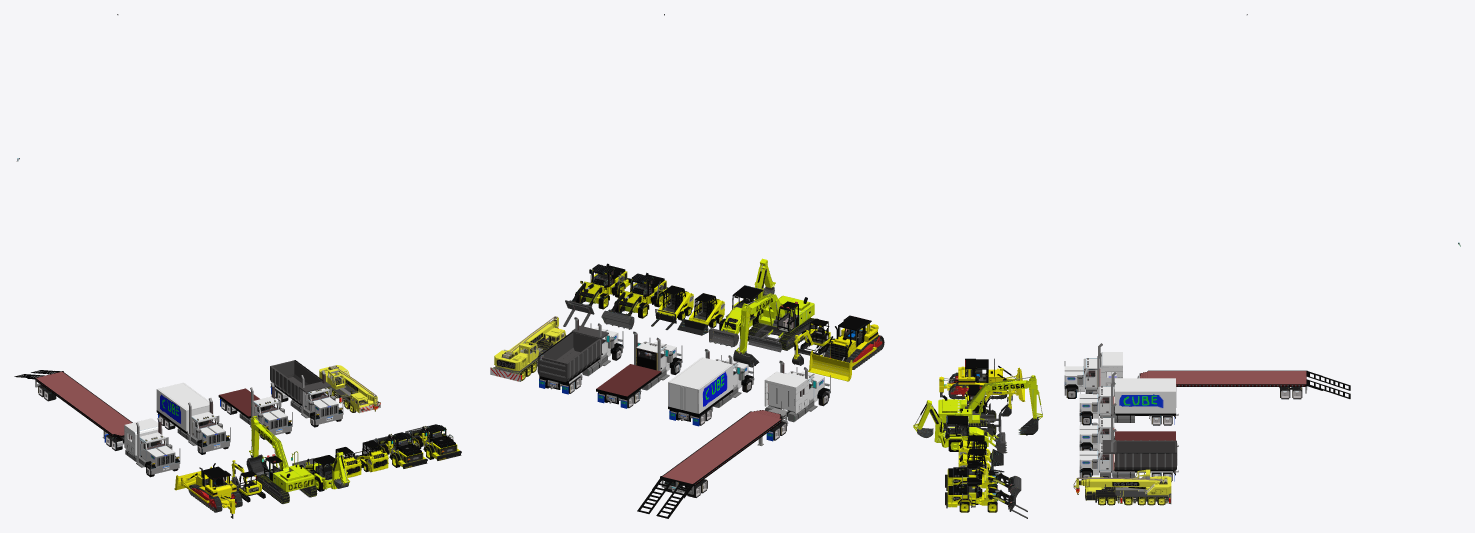
File: digger.glb
The picture shows the model from 3 angles, left to right: view 1: azimuth 30°, elevation 25°; view 2: azimuth 150°, elevation 25°; view 3: azimuth 270°, elevation 25°; orthographic projection. The views are drawn at different scales.
Visible parts, largest first — view 1: cube.007_7, cube.003_33, cube.014_2, trailor.001_3, digger d400_22, flatbed_18, digger 900 moble crane_19, cube.011_16, cube.006_13, cube.002_34, cube.005_26, cube.004_31 (+3 smaller); view 2: trailor.001_3, cube.007_7, cube.003_33, cube.014_2, digger d400_22, flatbed_18, digger 900 moble crane_19, cube.004_31, cube.002_34, cube.006_13, cube.005_26, cube.011_16 (+4 smaller); view 3: cube.007_7, trailor.001_3, cube.003_33, digger 900 moble crane_19, flatbed_18, cube.014_2, cube.002_34, digger d400_22, cube.005_26, cube.011_16, cube.004_31, cube.006_13 (+1 smaller).
Part boxes in pixels (box(x1,y1,x2,y2)): cube.007_7: box(270, 360, 343, 427); cube.003_33: box(246, 416, 317, 503); cube.014_2: box(38, 385, 180, 477); trailor.001_3: box(14, 370, 132, 438); digger d400_22: box(174, 463, 242, 512); flatbed_18: box(156, 382, 213, 433); digger 900 moble crane_19: box(319, 365, 380, 413); cube.011_16: box(157, 398, 230, 454); cube.006_13: box(219, 382, 292, 439); cube.002_34: box(292, 452, 349, 491); cube.005_26: box(405, 424, 461, 460); cube.004_31: box(369, 432, 427, 468); trailor.001_3: box(637, 410, 782, 518); cube.007_7: box(537, 317, 623, 394); cube.003_33: box(733, 293, 817, 367); cube.014_2: box(664, 360, 830, 497); digger d400_22: box(808, 315, 884, 381); flatbed_18: box(668, 357, 733, 416); digger 900 moble crane_19: box(490, 316, 566, 381); cube.004_31: box(601, 272, 668, 329); cube.002_34: box(709, 258, 775, 347); cube.006_13: box(597, 331, 682, 408); cube.005_26: box(565, 263, 631, 314); cube.011_16: box(669, 349, 754, 426); cube.007_7: box(1079, 429, 1178, 481); trailor.001_3: box(1139, 370, 1350, 398); cube.003_33: box(938, 375, 1042, 435); digger 900 moble crane_19: box(1073, 469, 1171, 505); flatbed_18: box(1115, 378, 1176, 415); cube.014_2: box(1064, 343, 1302, 399); cube.002_34: box(913, 400, 1007, 453); digger d400_22: box(948, 358, 1025, 401); cube.005_26: box(945, 477, 1015, 512); cube.011_16: box(1079, 372, 1178, 425); cube.004_31: box(945, 460, 1021, 497); cube.006_13: box(1079, 403, 1178, 454).
Bounding box in the file's own units: 35.18 × 52.42 × 63.79.
11 materials, 11 textured.
